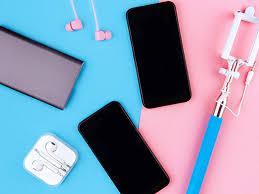Smartphone: (119, 4, 196, 110), (79, 97, 163, 194), (0, 17, 77, 118)
